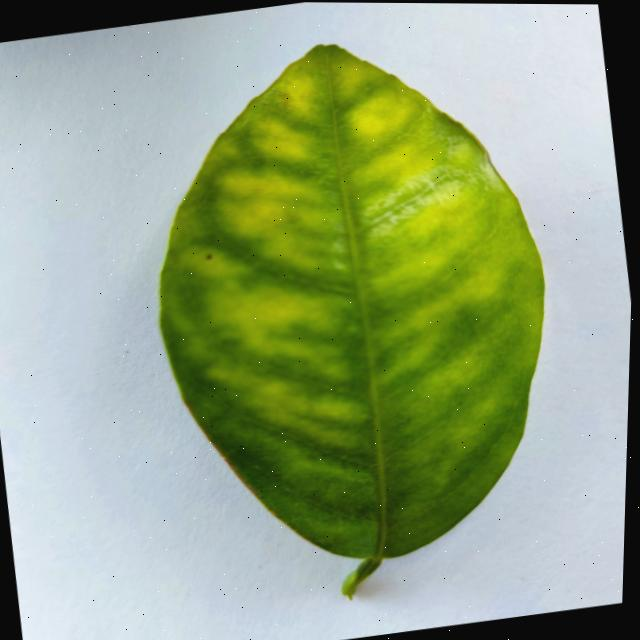greening: (161, 44, 543, 595)
